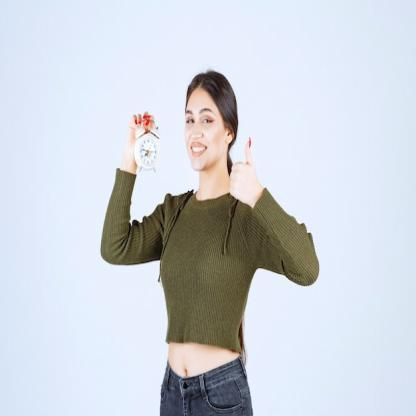thumb_up: (228, 134, 258, 206)
